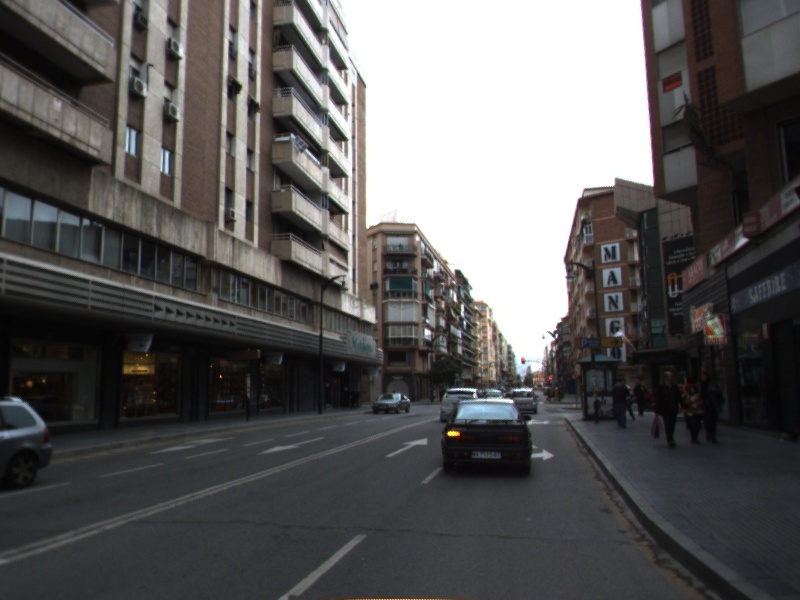STRAIGHT: (383, 436, 429, 459)
